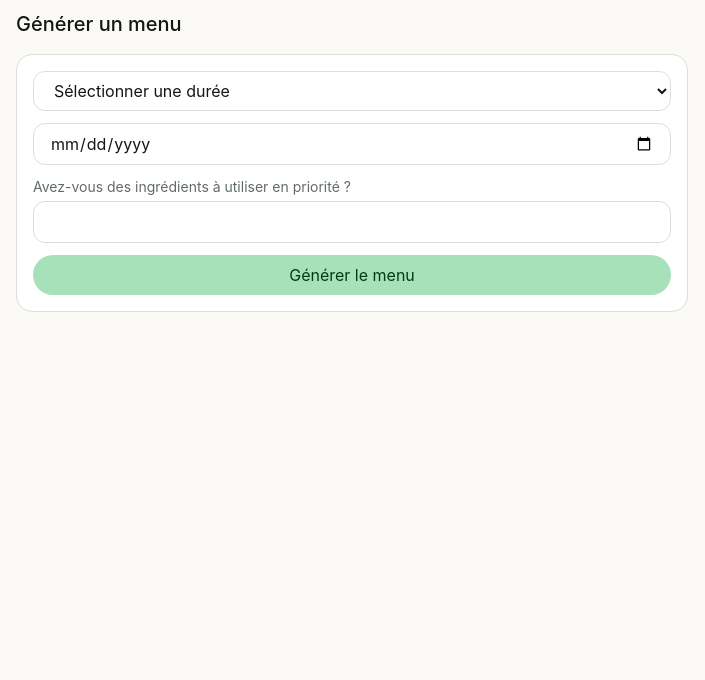
affiche une erreur si la sauvegarde échoue
Select "Pour une journée" in the dropdown at (352, 91), box [33,71,671,111]
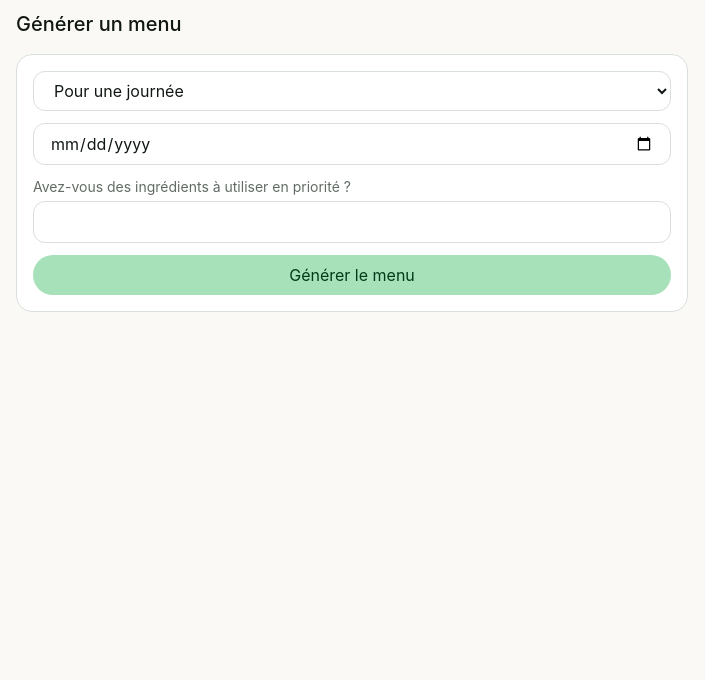
Click the button "Générer le menu" at (352, 275), box [33,255,671,295]
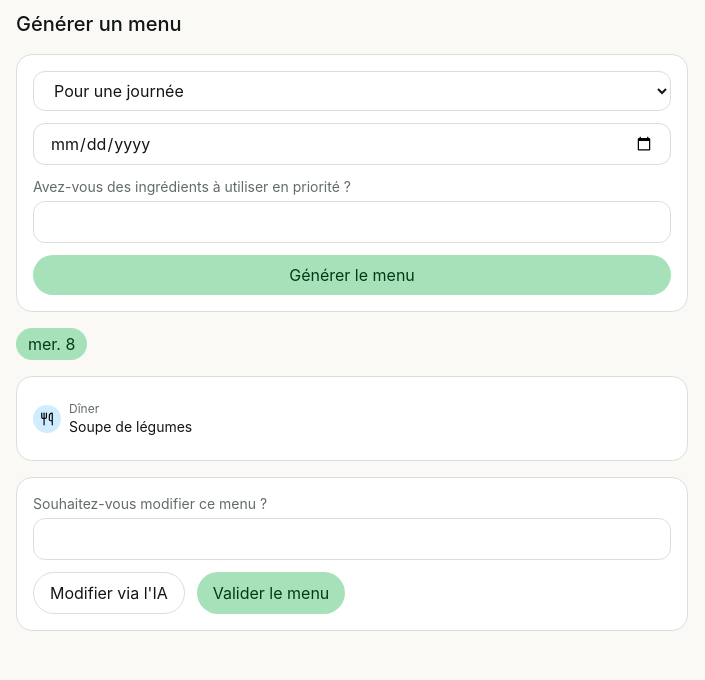
Result: the text "Soupe de légumes" is shown at [69,417,192,436]
Click the button "Valider le menu" at (271, 593), box [197,572,345,614]
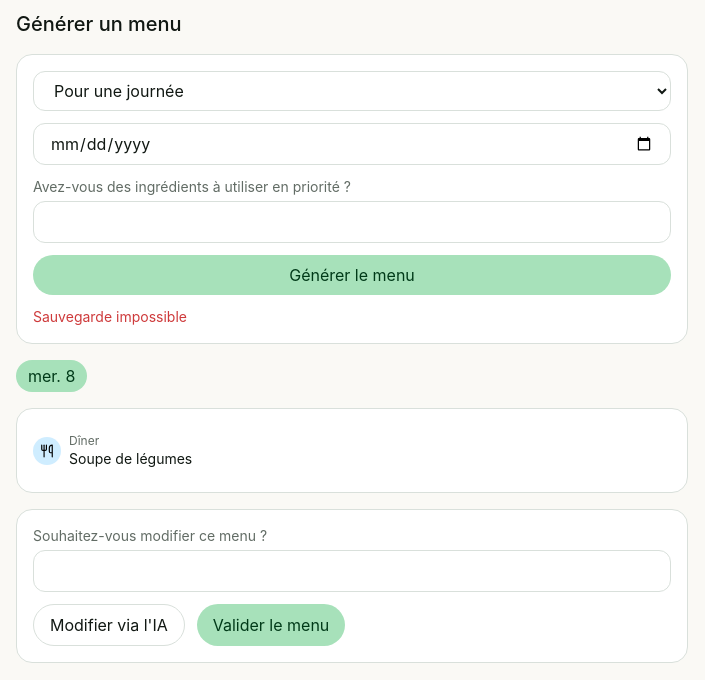
Result: the text "Sauvegarde impossible" is shown at [33,308,187,325]
